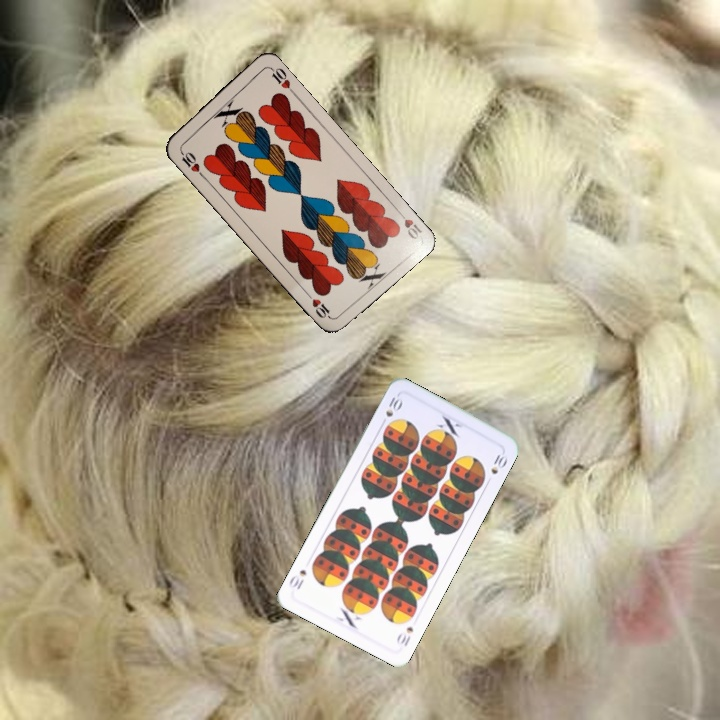H10: (393, 205, 425, 242), (176, 145, 206, 179)
S10: (377, 393, 405, 428), (392, 622, 416, 649)
